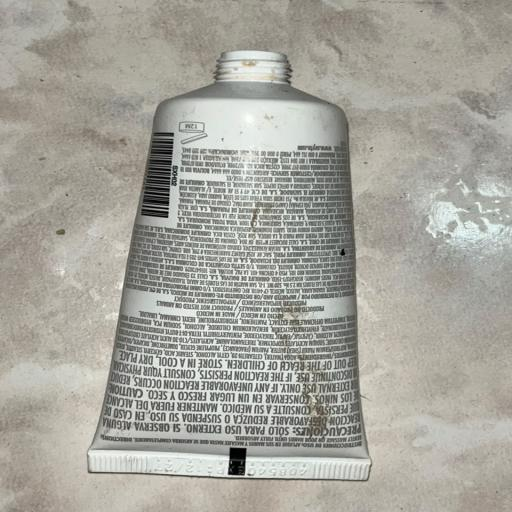HDPE: (25, 29, 439, 471)
